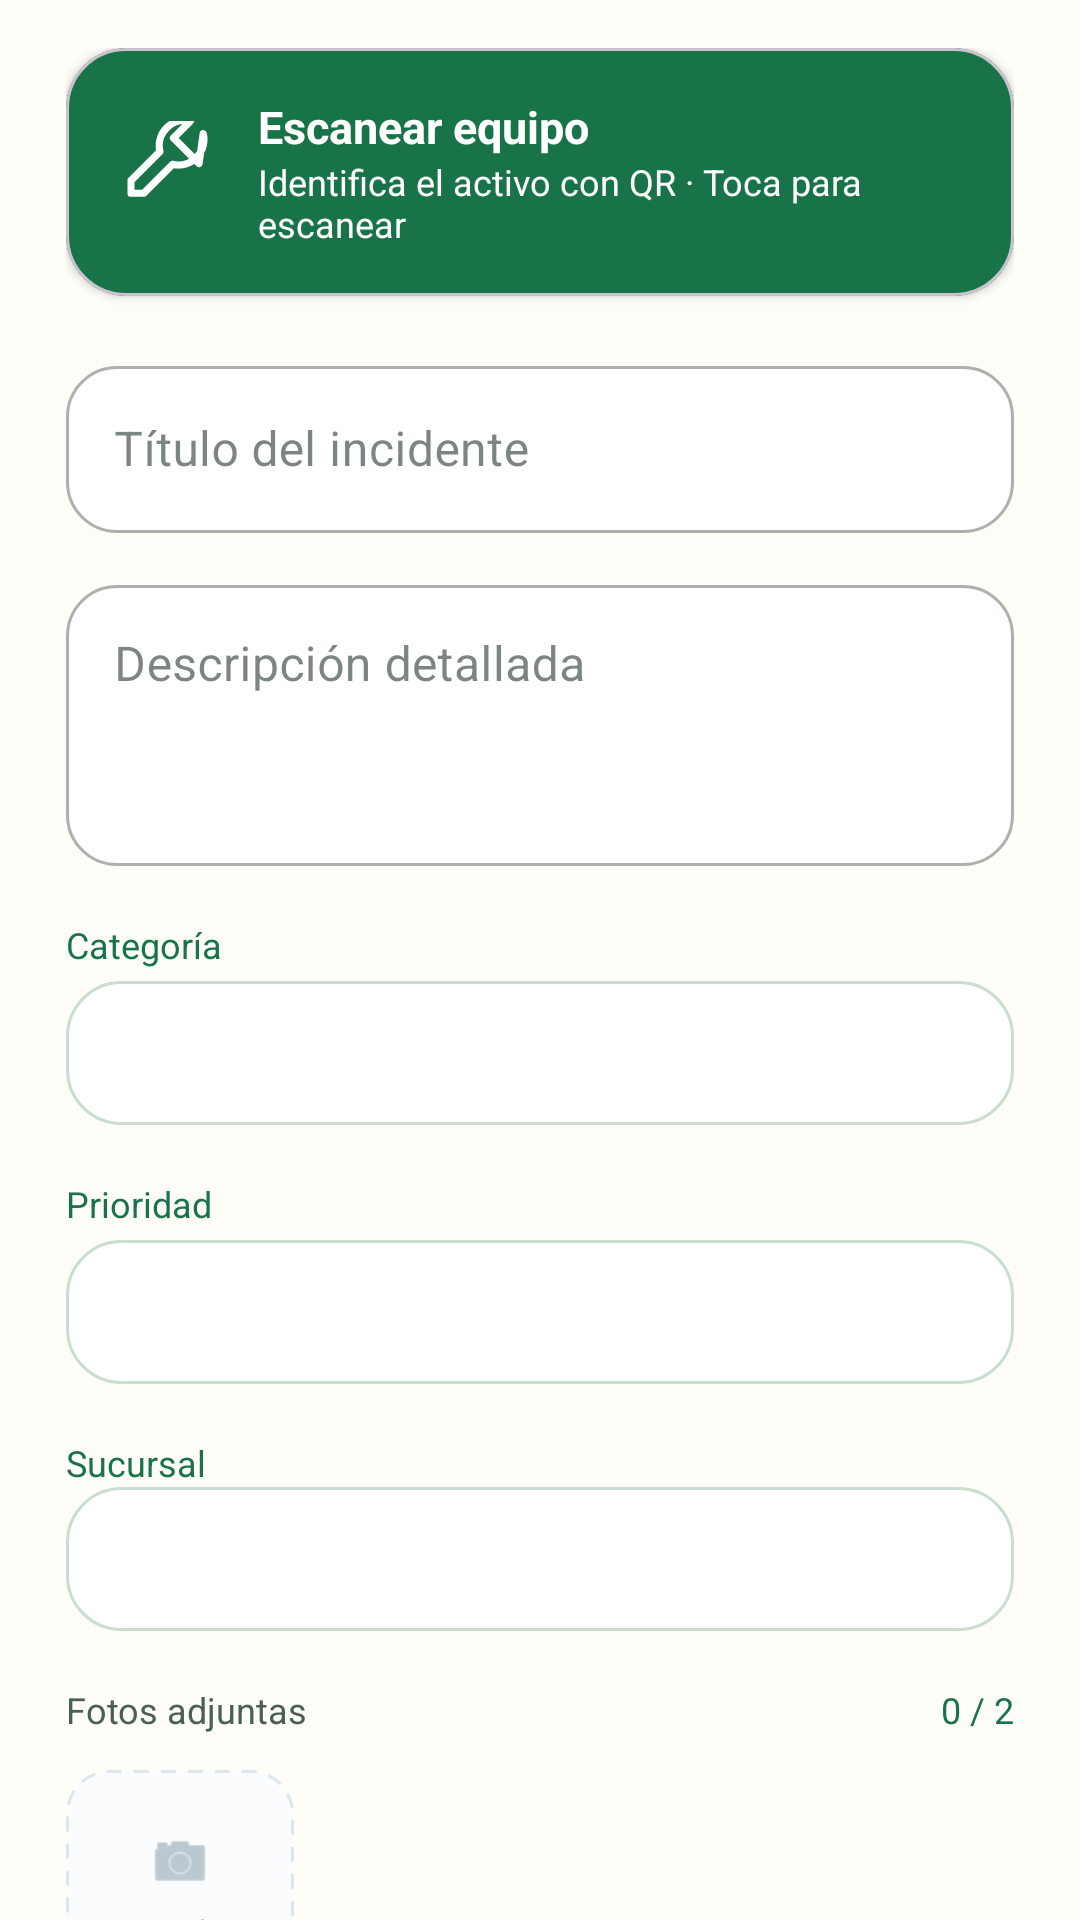

Icons on this 1080px x 1920px Android screen, each with its box as box(x1, y1, x2, y2):
camera: box(155, 1841, 205, 1881)
tool simple: box(127, 121, 208, 197)
